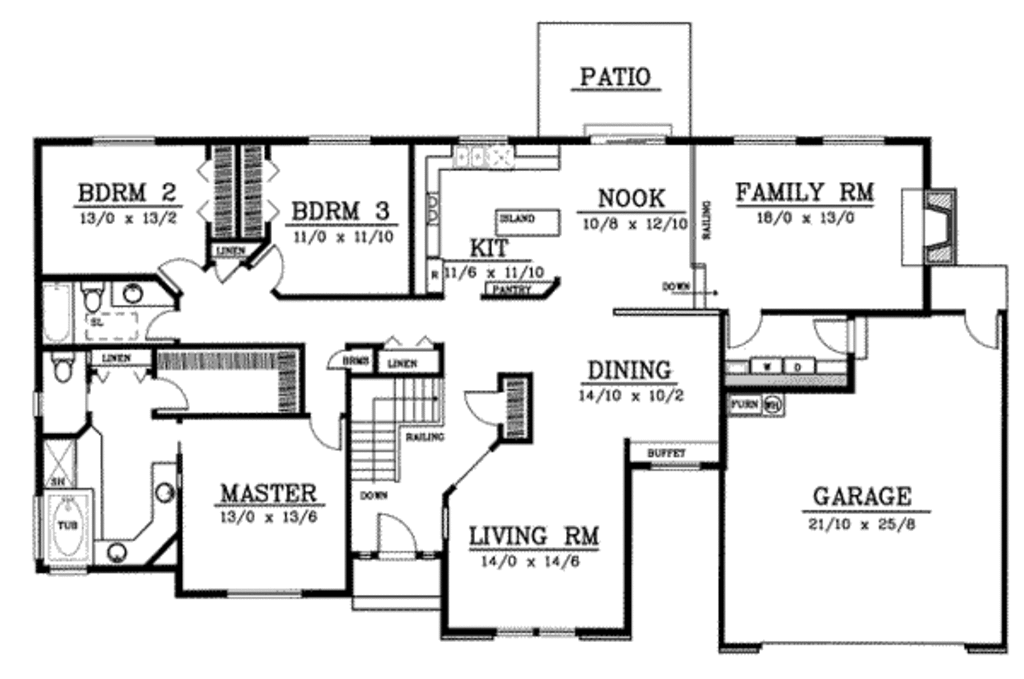door: (805, 306, 872, 360), (363, 512, 426, 564), (158, 250, 211, 295), (720, 308, 772, 353), (247, 239, 288, 294), (962, 306, 1006, 353), (304, 410, 348, 455), (460, 387, 506, 429), (153, 373, 189, 417), (140, 305, 180, 340)
large_sink: (49, 345, 82, 388), (74, 278, 107, 313)
small_sink: (145, 468, 185, 524), (102, 532, 130, 569)
stairs: (343, 369, 450, 493), (669, 262, 720, 305)
tub: (41, 276, 73, 343)
twin_sink: (450, 139, 484, 176)
window: (728, 129, 800, 148), (225, 585, 300, 601), (93, 132, 157, 150), (823, 130, 889, 146), (29, 485, 42, 566), (310, 129, 374, 142)
